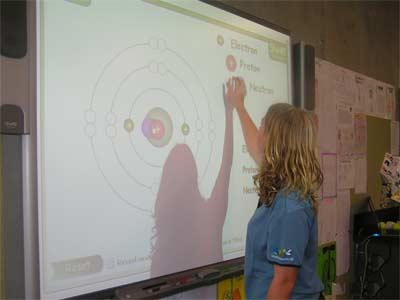person: (226, 76, 326, 300)
